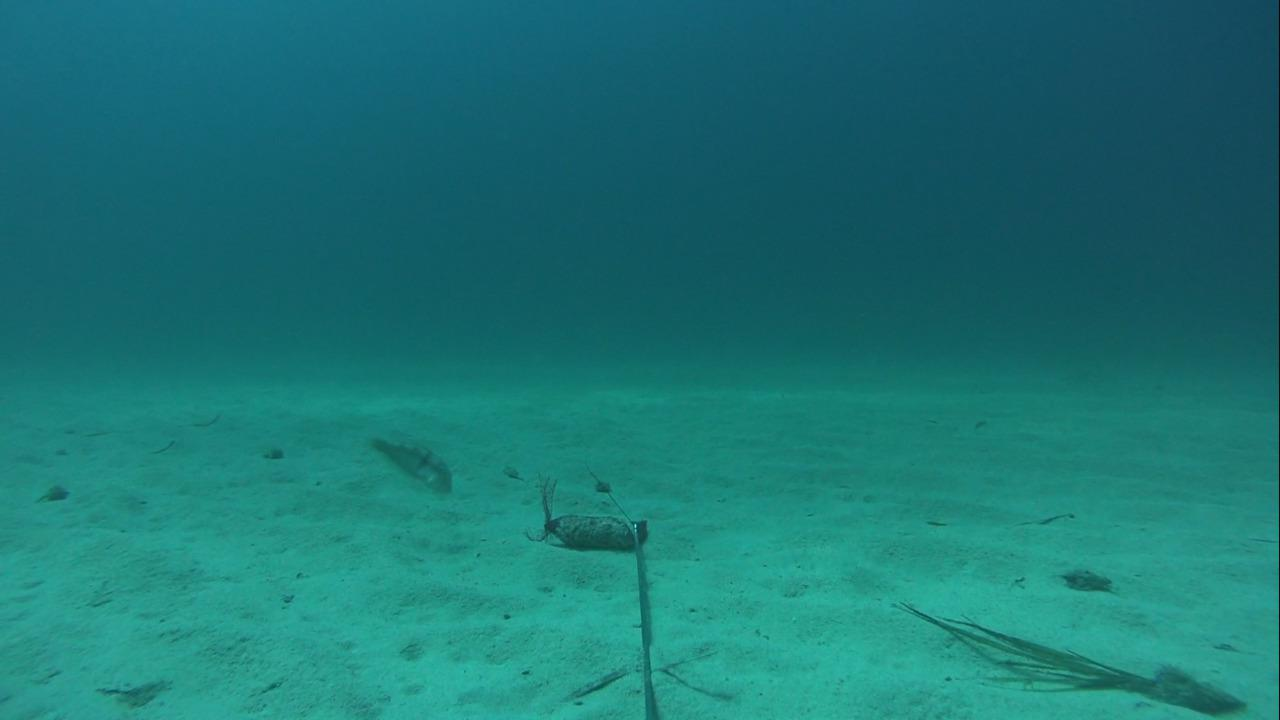raor: (358, 425, 455, 493)
